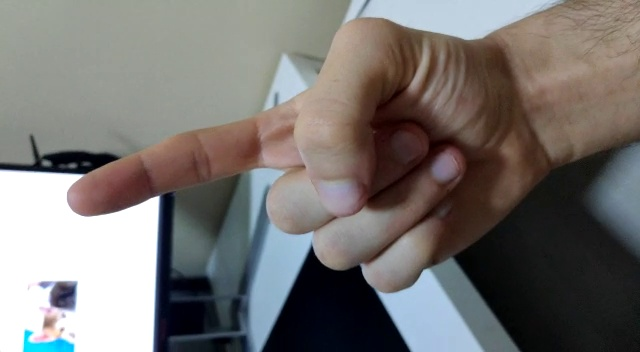One: (60, 5, 593, 317)
